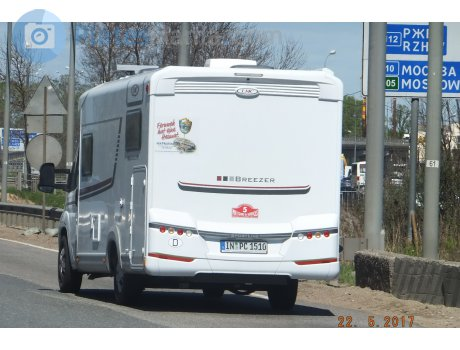License Plates: (226, 237, 273, 251)
